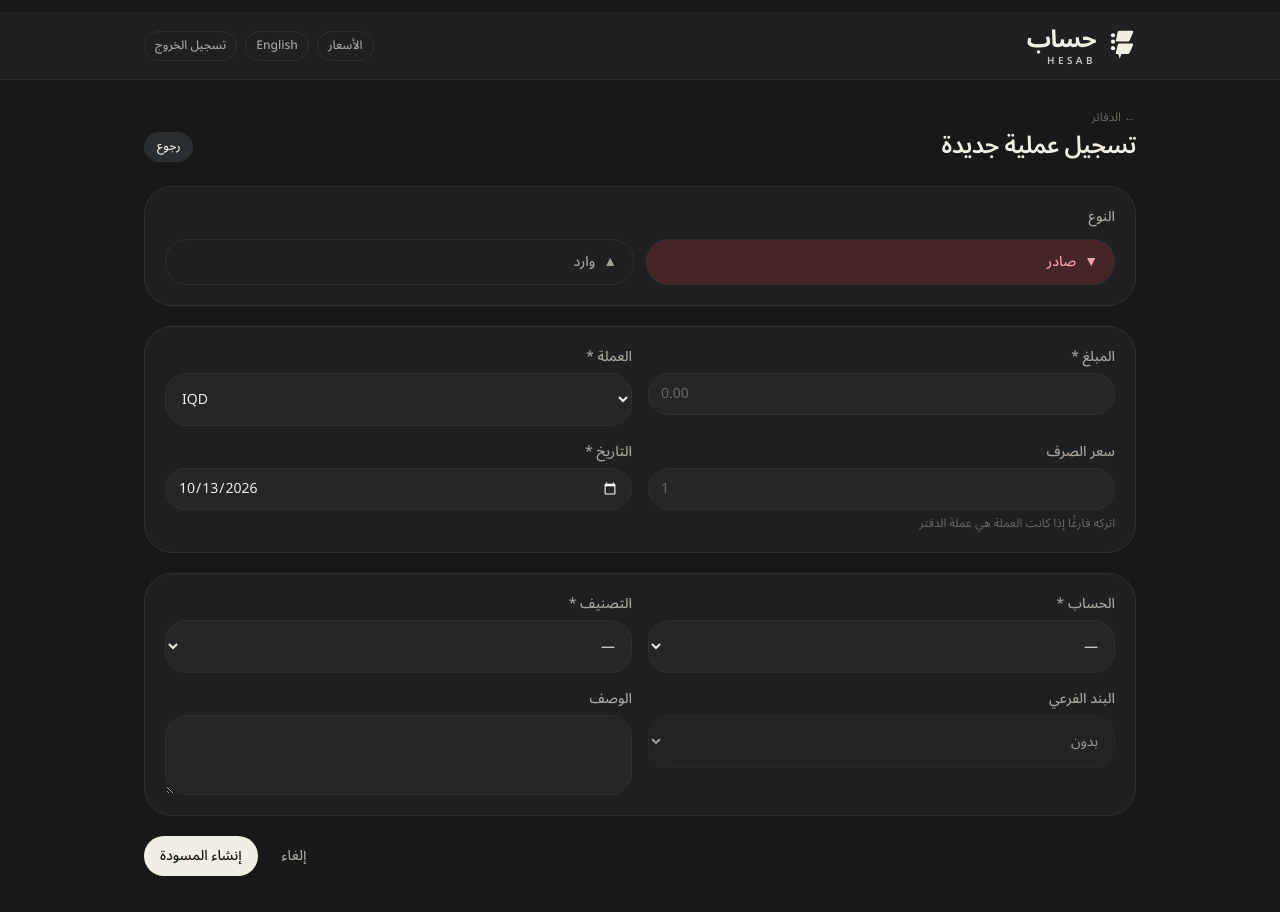
Scenario: NewTransactionView › keeps the user on the form and reports the failure when the draft is rejected
The image size is (1280, 912).
Type "10" into the field labelled "المبلغ *" at (882, 394), box [648,374,1115,416]
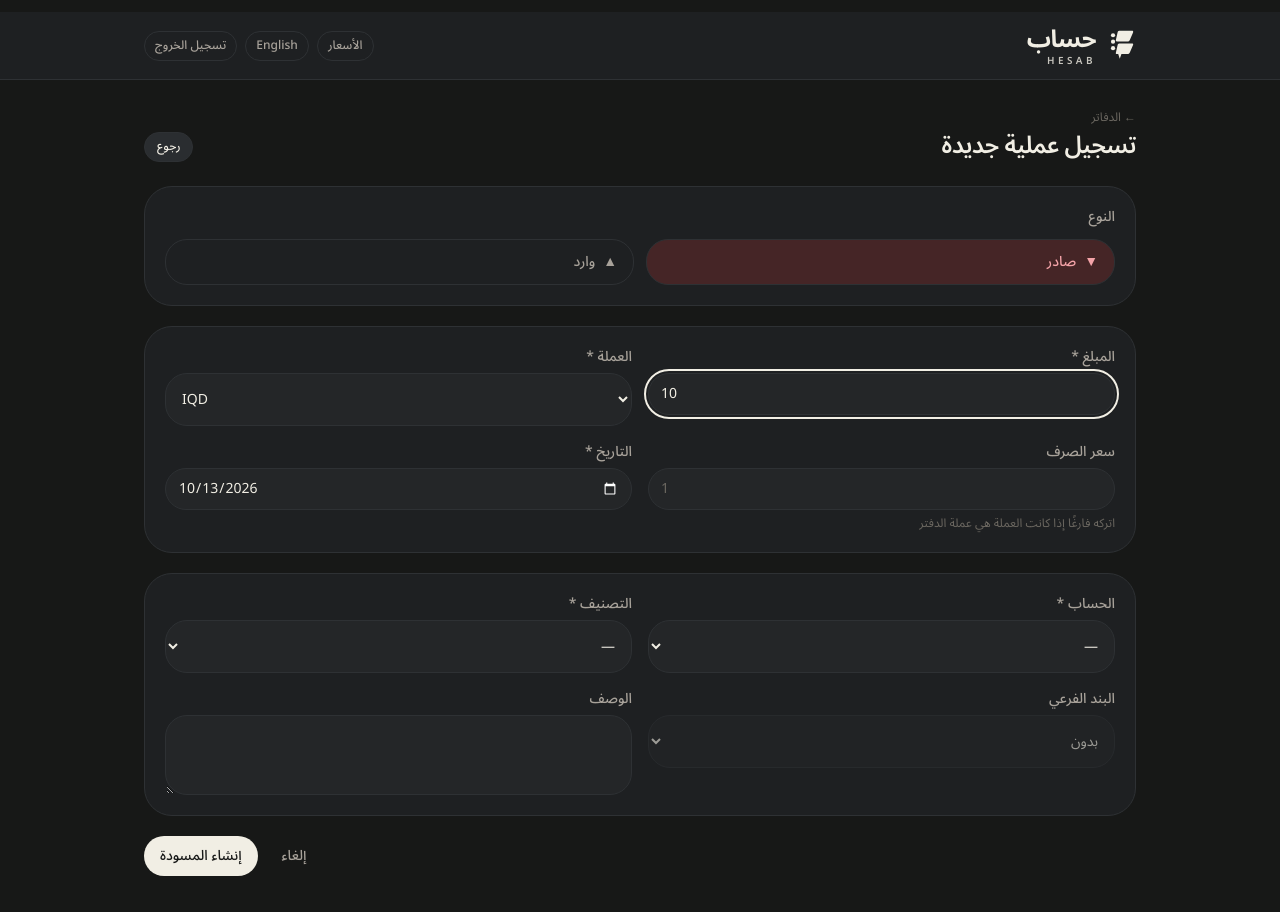
Select "نقدي" in the dropdown labelled "الحساب *" at (882, 647), box [648,620,1115,674]
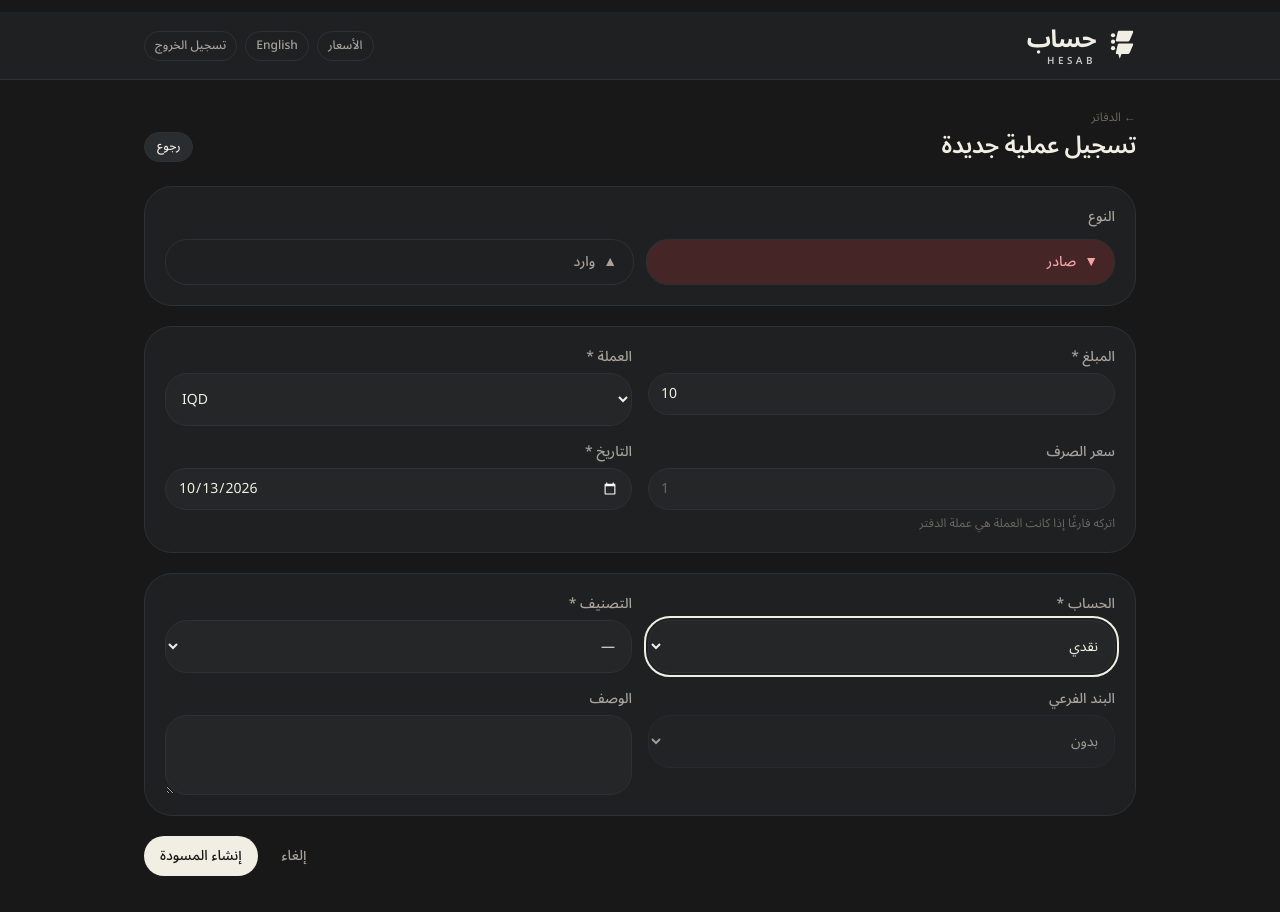
Select "المصاريف التشغيلية" in the dropdown labelled "التصنيف *" at (398, 647), box [165,620,632,674]
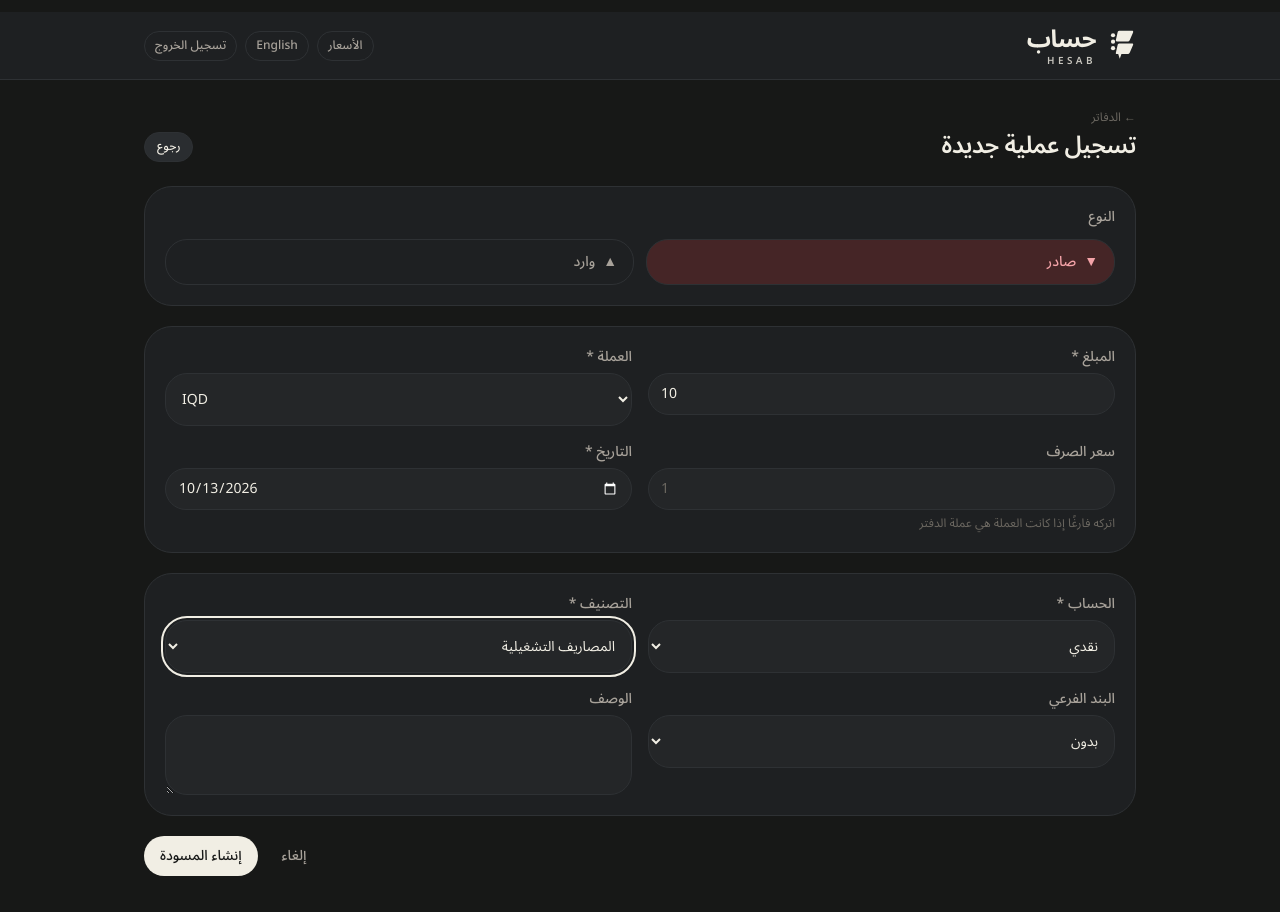
Click the button "إنشاء المسودة" at (201, 856), box [144,836,258,876]
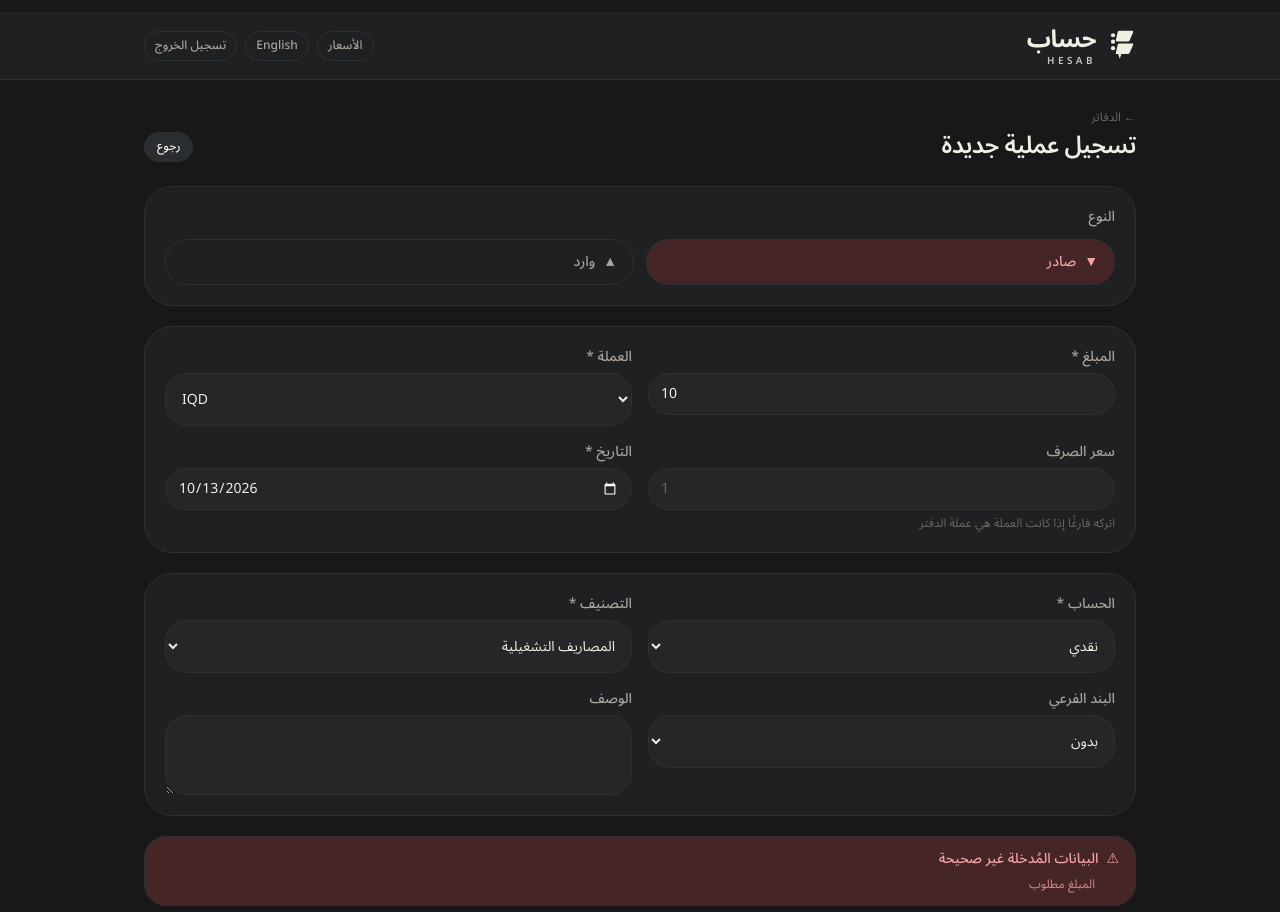
Expected: the message shows "المبلغ مطلوب", [1029,872,1095,898]
